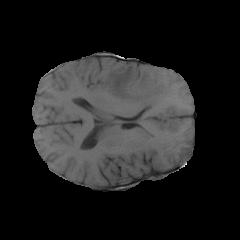glioma: (104, 63, 167, 110)
